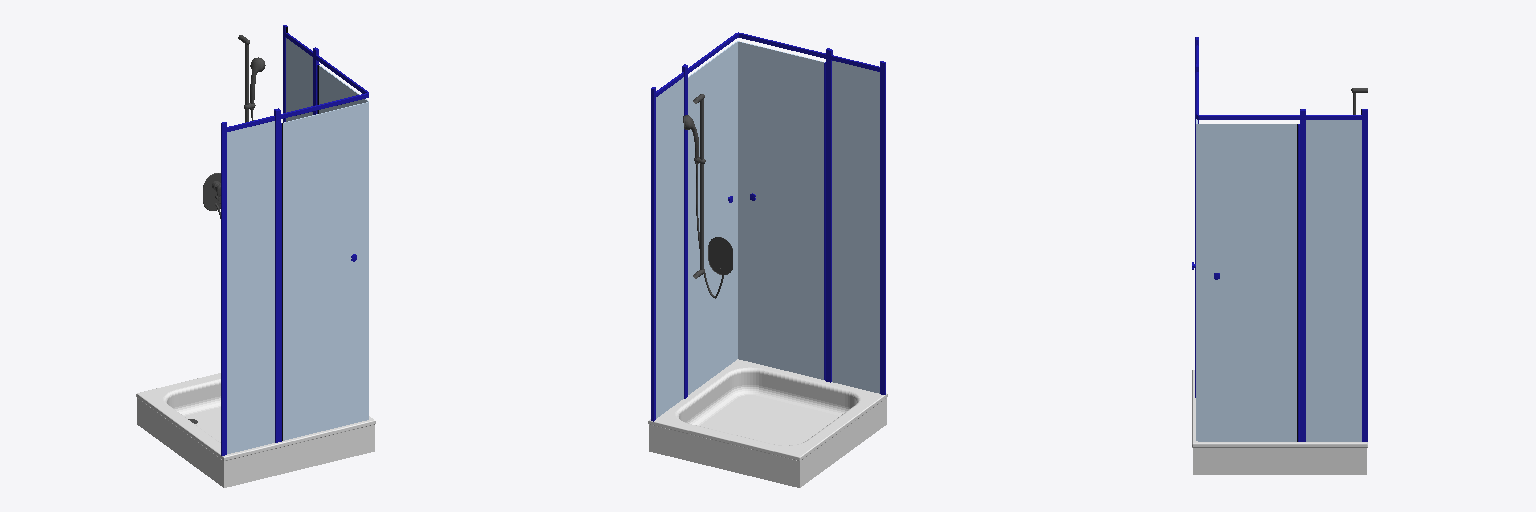
File: 19523_Shower.obj
3 views of the same model, side by side, from view 1: azimuth 30°, elevation 25°; view 2: azimuth 150°, elevation 25°; view 3: azimuth 270°, elevation 25° (orthographic).
Parts seen in each view (by area): view 1: object_3, object_4, object_1, object_2; view 2: object_3, object_4, object_1, object_2; view 3: object_3, object_1, object_4.
Part boxes in pixels (x1,y1,x2,y2): object_3: (227,38,368,453); object_4: (136,373,375,487); object_1: (221,25,368,455); object_2: (188,35,265,423); object_3: (656,41,879,418); object_4: (648,359,887,487); object_1: (651,32,885,421); object_2: (683,94,732,298); object_3: (1196,119,1361,441); object_1: (1192,37,1367,441); object_4: (1192,370,1367,474).
Bounding box in the file's own units: 0.91 × 2.08 × 0.91.